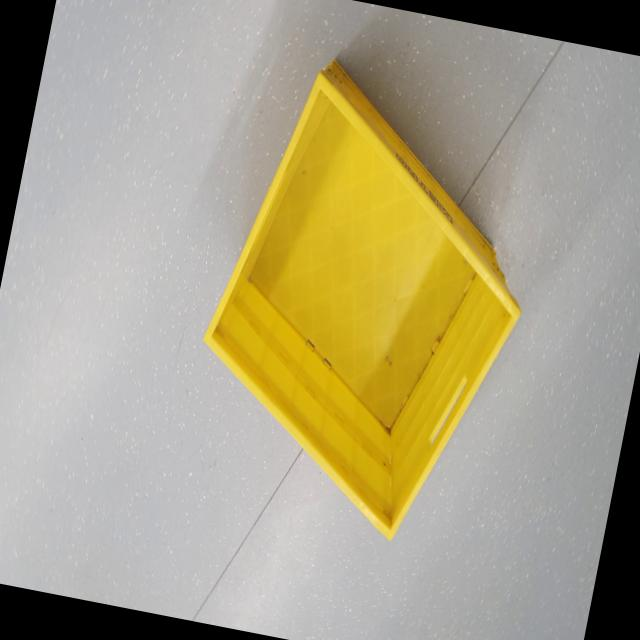box: (165, 30, 570, 565)
